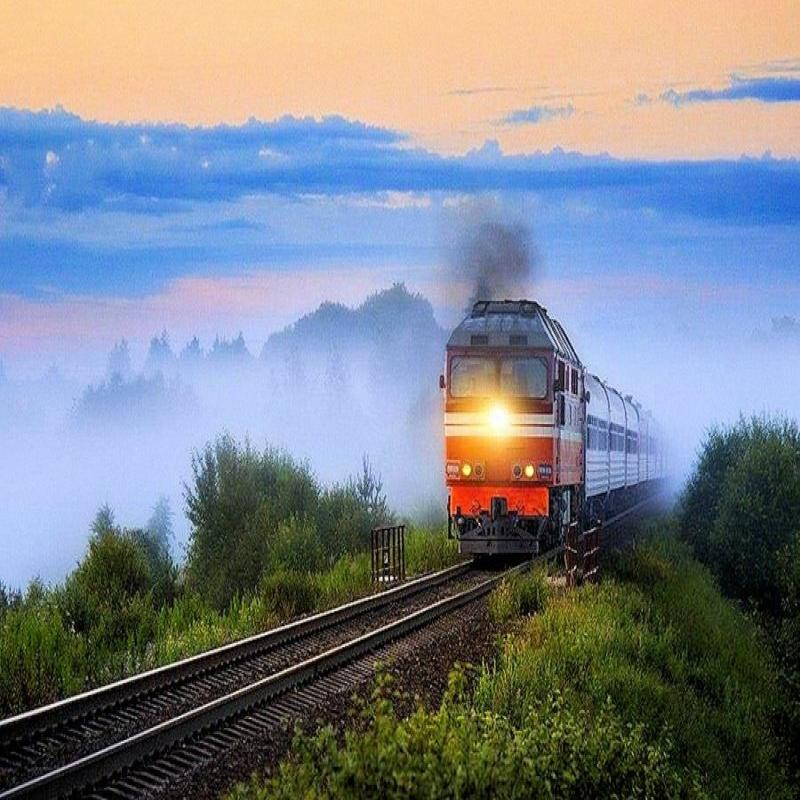train: (437, 269, 588, 567)
